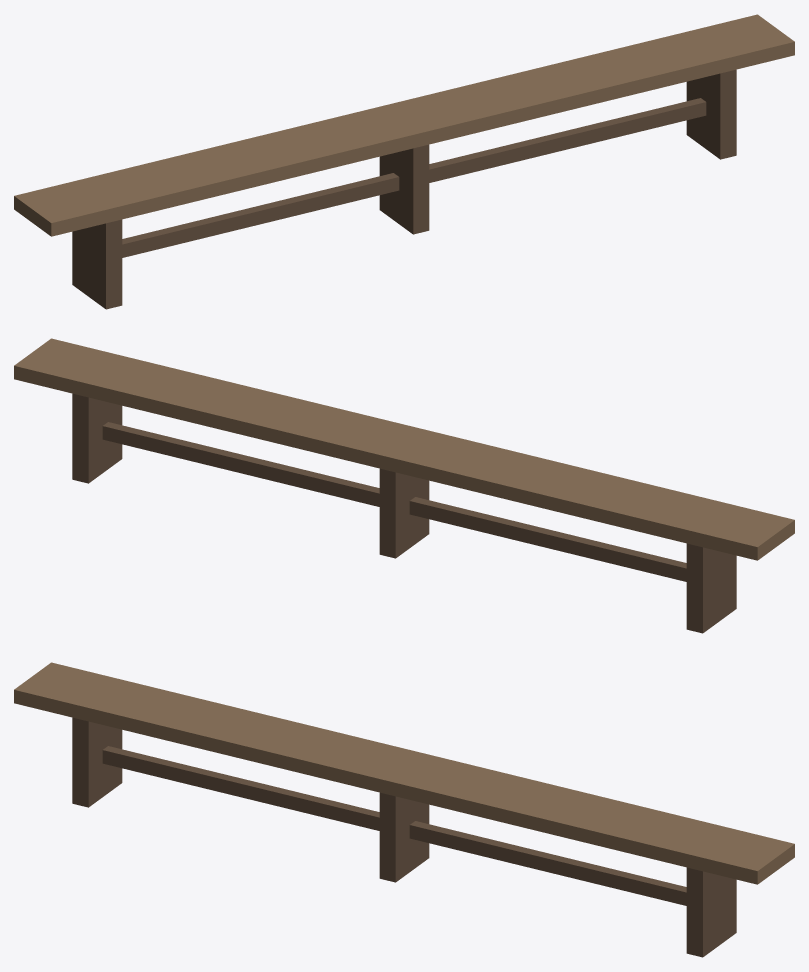
Rendered from bench_long.glb.
3 renders of one model, top to bottom at view 1: azimuth 30°, elevation 25°; view 2: azimuth 150°, elevation 25°; view 3: azimuth 330°, elevation 25°, orthographic.
Visible parts, largest first — view 1: bench_long; view 2: bench_long; view 3: bench_long.
Boxes of the visible parts, <box> form: bench_long: <box>14,14,794,309</box>; bench_long: <box>14,338,794,633</box>; bench_long: <box>14,662,794,957</box>.
Bounding box in the file's own units: 4.6 × 0.6 × 0.4.
